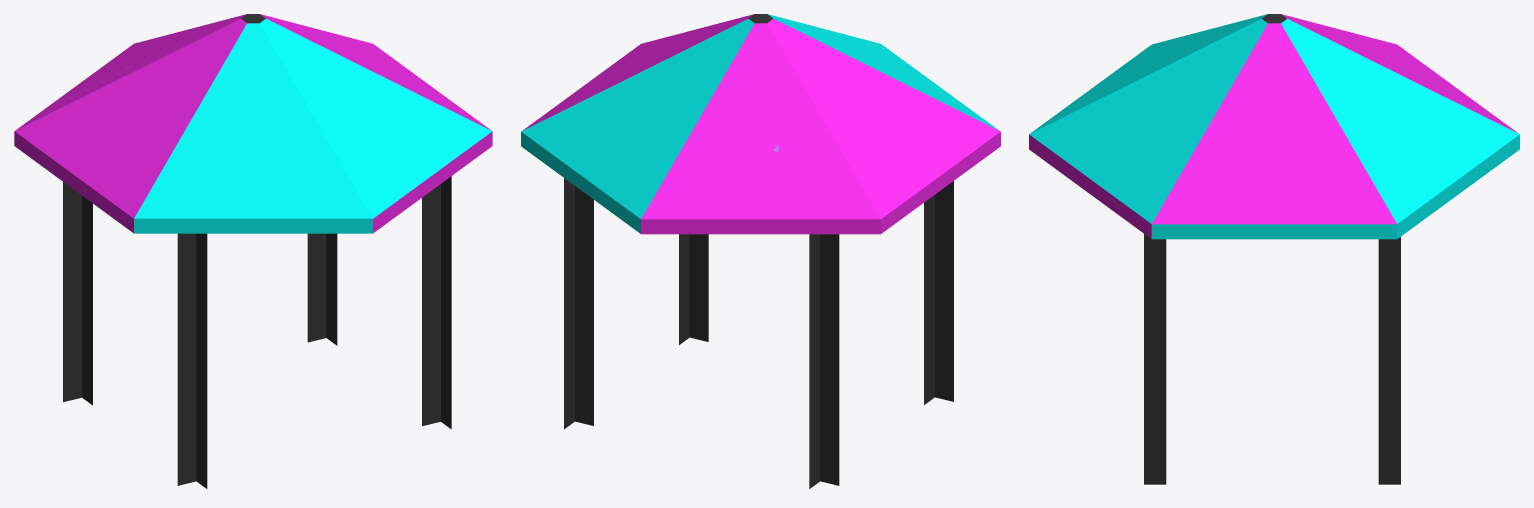
File: tent.obj
The picture shows the model from 3 angles, left to right: view 1: azimuth 30°, elevation 25°; view 2: azimuth 150°, elevation 25°; view 3: azimuth 270°, elevation 25°; orthographic projection. The views are drawn at different scales.
Visible parts, largest first — view 1: Cylinder.007; view 2: Cylinder.007; view 3: Cylinder.007.
Part boxes in pixels (x1,y1,x2,y2): Cylinder.007: [14, 14, 492, 488]; Cylinder.007: [521, 14, 1000, 488]; Cylinder.007: [1029, 14, 1519, 484].
Size of the model in its own units: 5.37 by 5.69 by 6.2.
